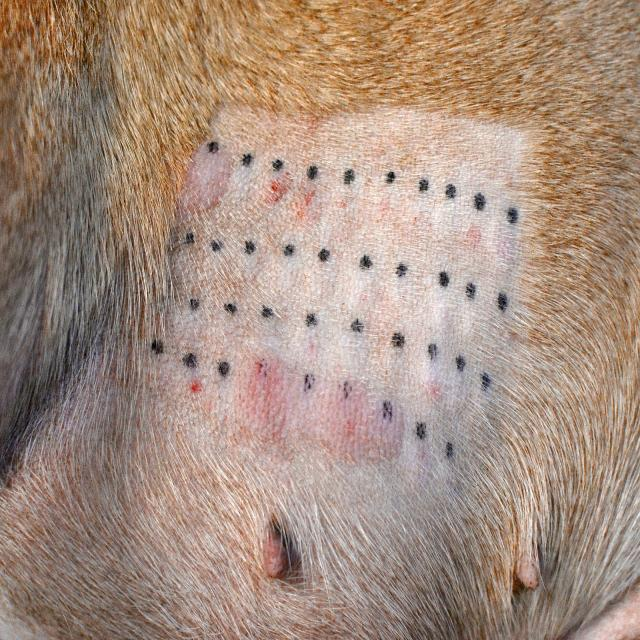allergic dermatitis: (228, 344, 412, 483), (174, 134, 232, 213)
